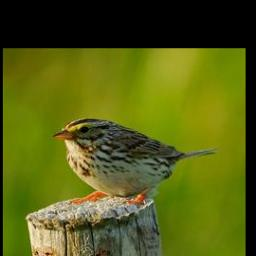Sparrow: (49, 116, 221, 207)
